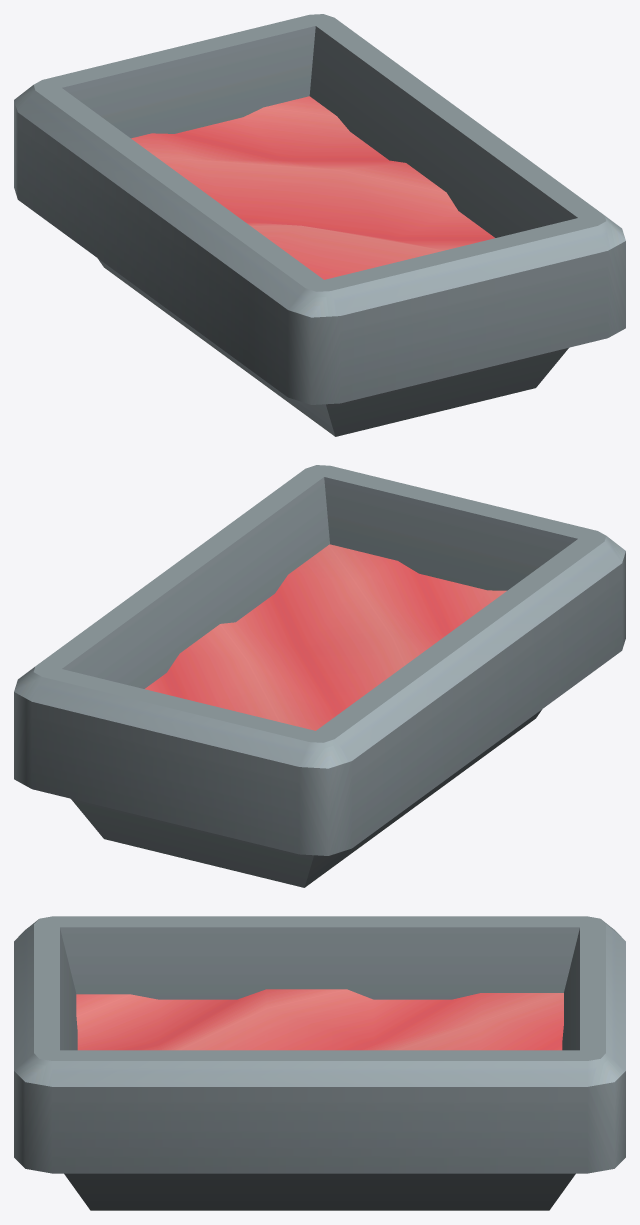
File: ic_b_counter.glb
3 views of the same model, one above another, from view 1: azimuth 30°, elevation 25°; view 2: azimuth 150°, elevation 25°; view 3: azimuth 270°, elevation 25° (orthographic).
Parts seen in each view (by area): view 1: icecream_container, icecream_container_icecream_strawberry; view 2: icecream_container, icecream_container_icecream_strawberry; view 3: icecream_container, icecream_container_icecream_strawberry.
Part boxes in pixels (left/top/right/bottom): icecream_container: left=14, top=14, right=625, bottom=436; icecream_container_icecream_strawberry: left=131, top=96, right=494, bottom=279; icecream_container: left=14, top=465, right=625, bottom=887; icecream_container_icecream_strawberry: left=145, top=544, right=506, bottom=730; icecream_container: left=14, top=916, right=625, bottom=1210; icecream_container_icecream_strawberry: left=76, top=989, right=563, bottom=1050.
Size of the model in its own units: 1.4 by 0.7 by 2.24.
2 materials, 2 textured.
